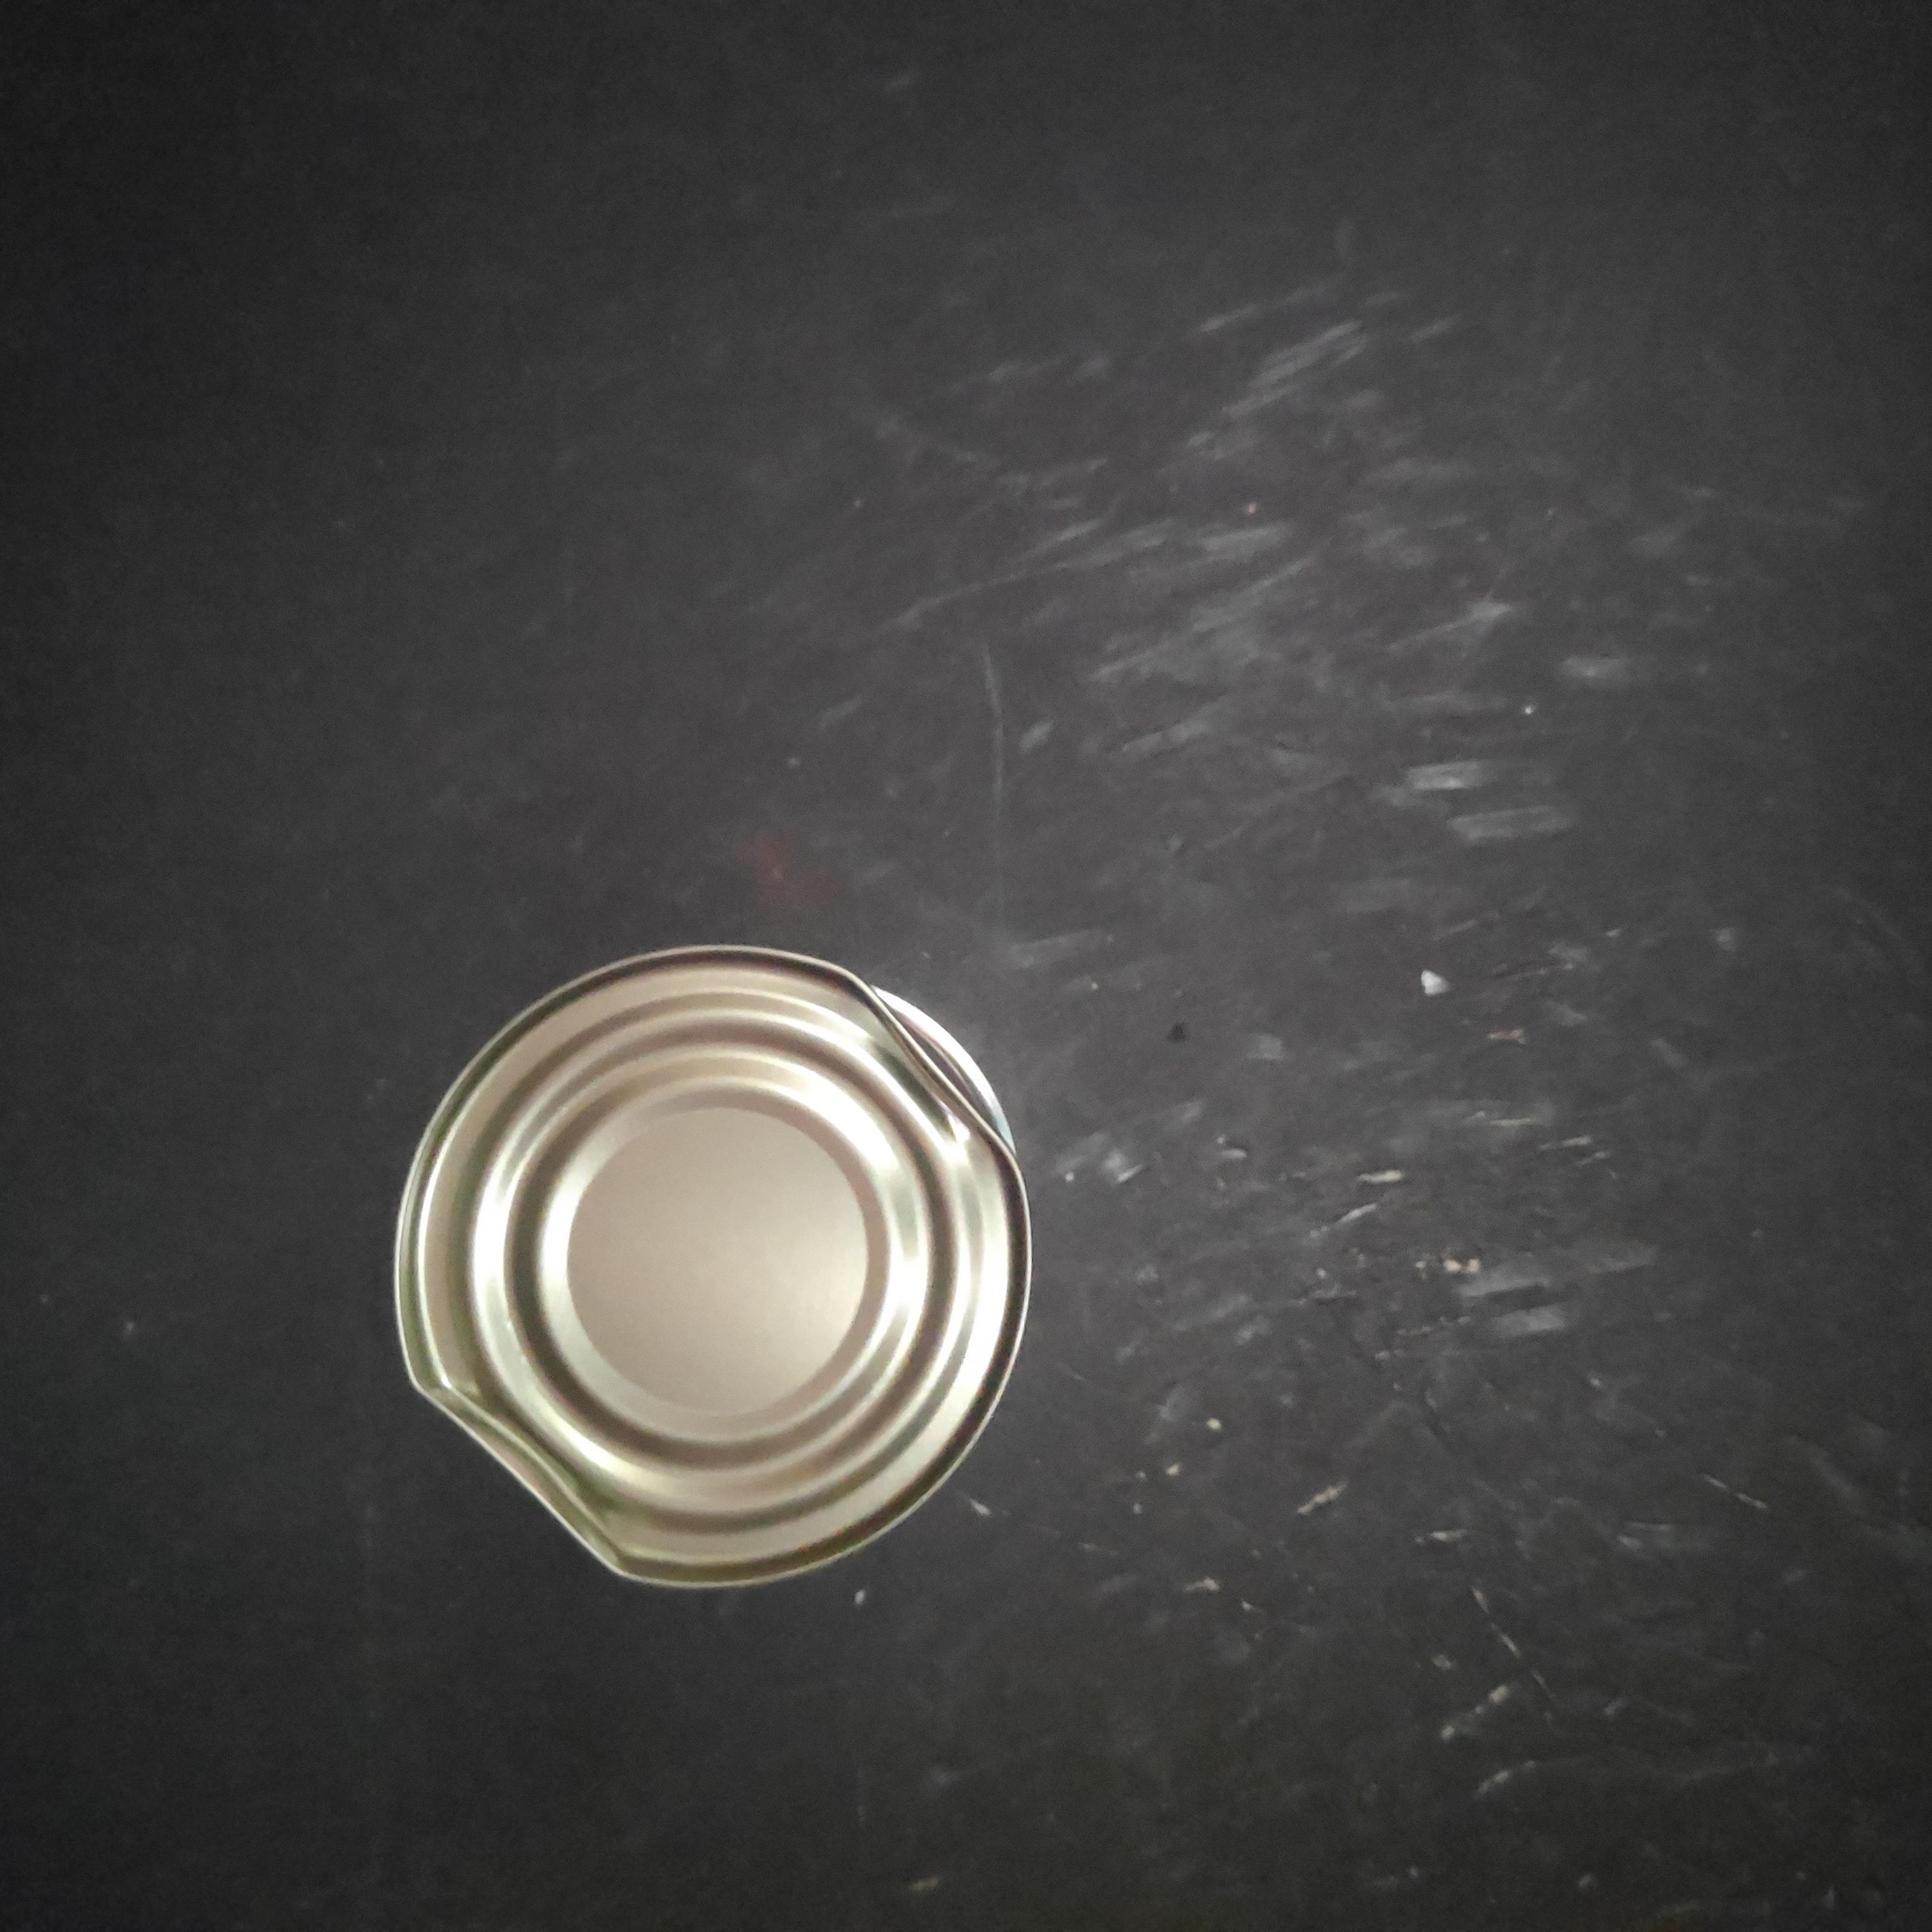Minor Defect: (886, 333, 1552, 1005)
